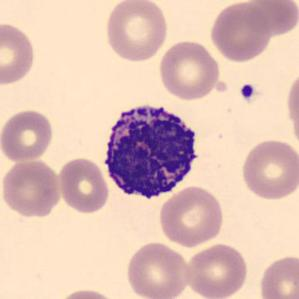Basophil: (97, 95, 206, 206)
Platelets: (238, 82, 256, 103)
RBC: (157, 184, 226, 248), (102, 0, 170, 64), (123, 239, 192, 299), (157, 38, 222, 101), (208, 1, 274, 63), (238, 137, 298, 202), (0, 157, 63, 218), (184, 241, 250, 299), (0, 107, 56, 164), (57, 155, 110, 215), (0, 19, 37, 86), (240, 0, 299, 37), (256, 252, 298, 299), (284, 68, 299, 149), (54, 286, 120, 299)
